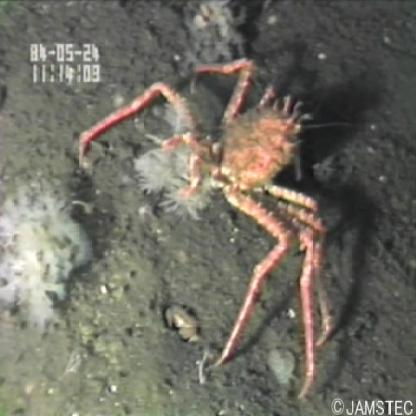Bio: (73, 55, 335, 404)
